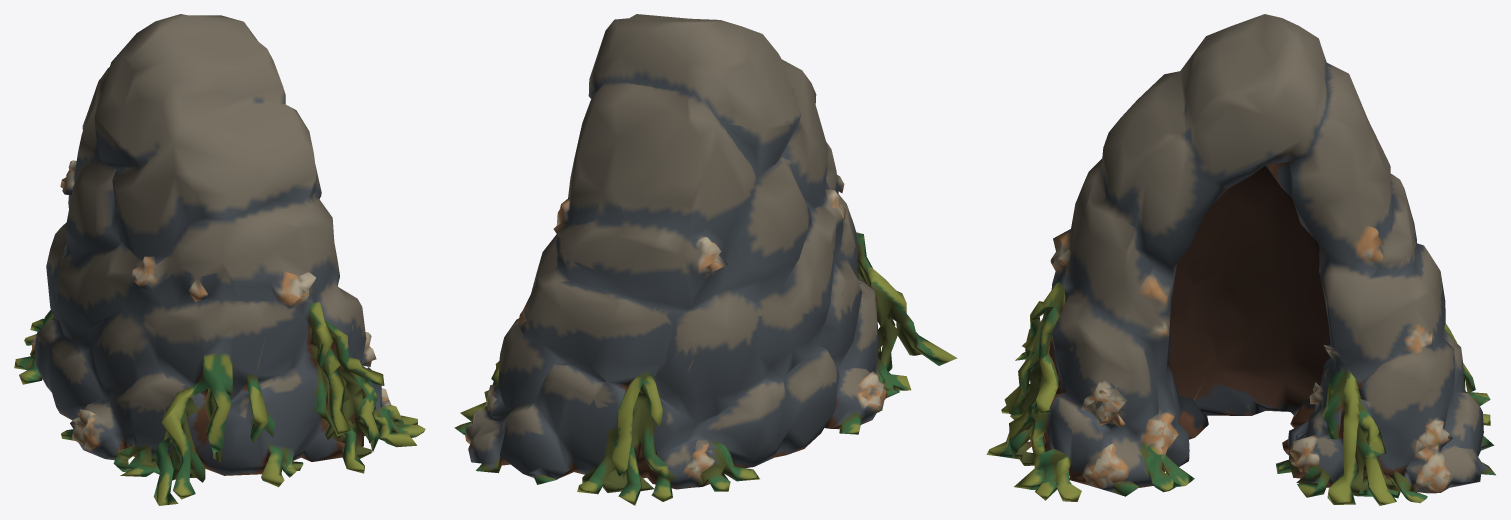
The model's file is cave-mouth.glb.
3 views of the same model, side by side, from view 1: azimuth 30°, elevation 25°; view 2: azimuth 150°, elevation 25°; view 3: azimuth 270°, elevation 25° (orthographic). The views are drawn at different scales.
Parts seen in each view (by area): view 1: tripo_node_bc9bb04a-9b43-45d4-ac8e-b878b140a07b; view 2: tripo_node_bc9bb04a-9b43-45d4-ac8e-b878b140a07b; view 3: tripo_node_bc9bb04a-9b43-45d4-ac8e-b878b140a07b.
Part boxes in pixels (x1,y1,x2,y2): tripo_node_bc9bb04a-9b43-45d4-ac8e-b878b140a07b: [14, 14, 425, 505]; tripo_node_bc9bb04a-9b43-45d4-ac8e-b878b140a07b: [454, 14, 957, 505]; tripo_node_bc9bb04a-9b43-45d4-ac8e-b878b140a07b: [986, 14, 1495, 505].
Size of the model in its own units: 0.7327 by 0.8693 by 1.
1 material, 1 textured.
